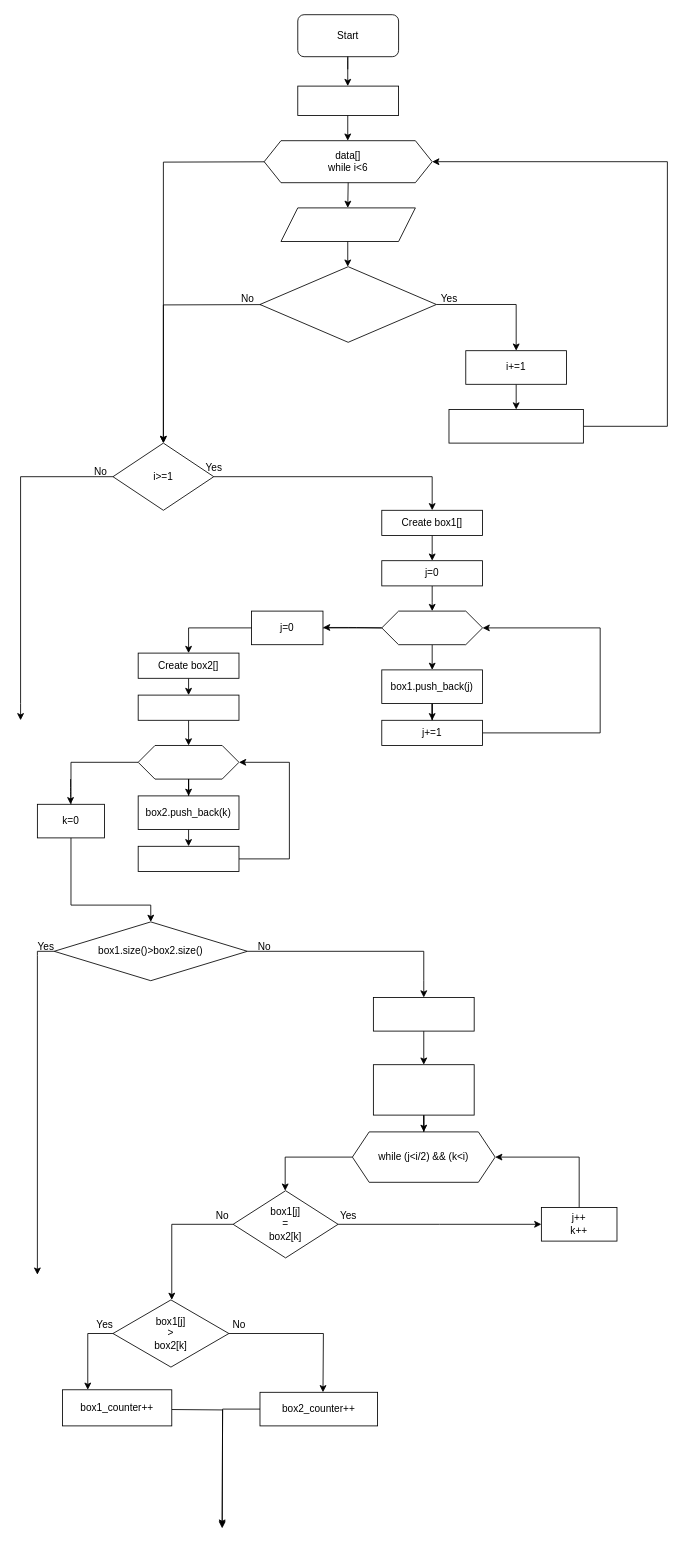
Some shapes in this 689 by 1550 pixel diagram are drawn without their labels. The shapes that lost their labels are listed below. From the top down, each one's centre as x and y in pixels, then its label:
the point at 348,100: int i=0
the point at 347,224: Enter element
the point at 347,304: Is type of the element integer?
the point at 515,426: data.push_back(element)
the point at 432,627: while i/2>j
the point at 188,707: k=i/2
the point at 188,762: while k<i
the point at 188,858: k+=1
the point at 423,1014: box1.sort() box2.sort()
the point at 423,1089: box1_counter=0 box2_counter=0
